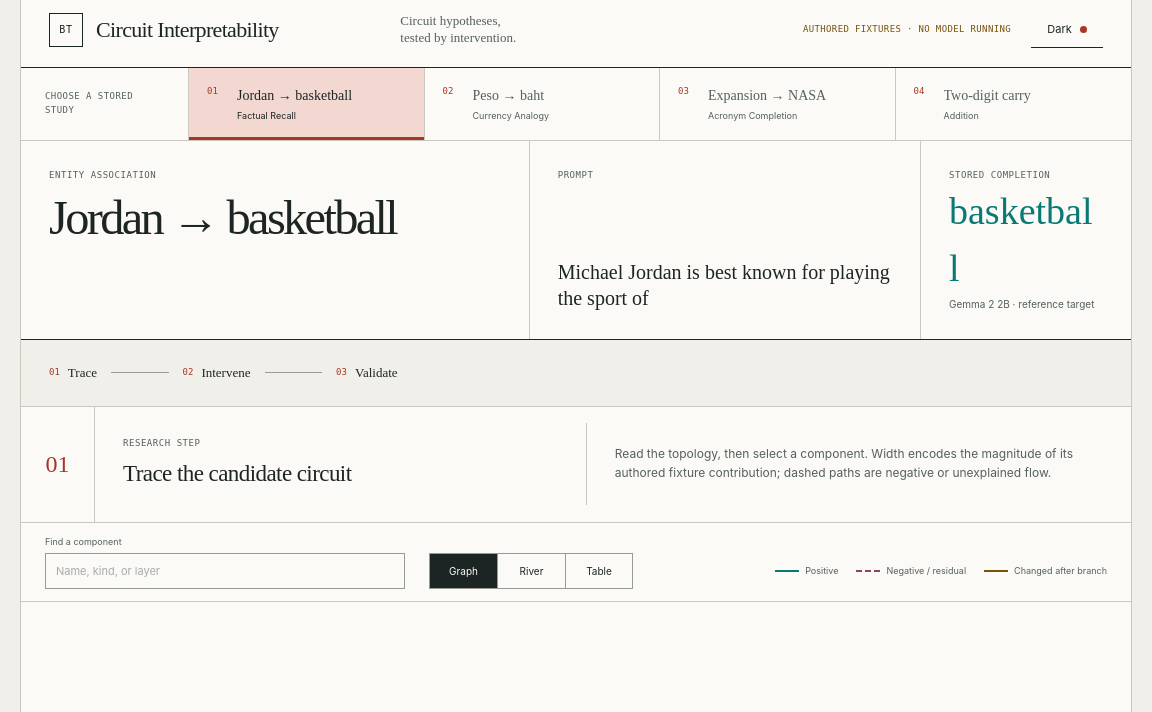
BranchTraceApp interactions › derives validation values and contrast from active state
The width and height of the screenshot is (1152, 712).
Click the button with test id "demo-arithmetic" at (1013, 104), box x1=896 y1=68 x2=1131 y2=140
(page scrolled)
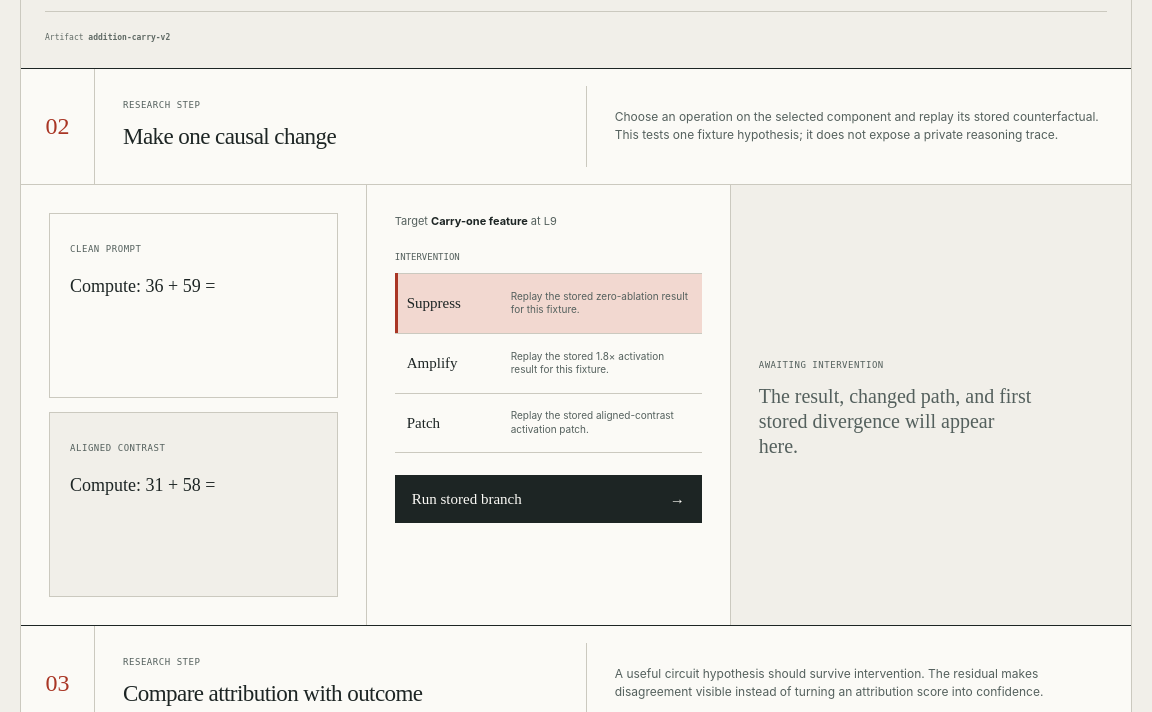
Click the radio button with test id "mode-amplify" at (548, 363), box x1=395 y1=333 x2=702 y2=393
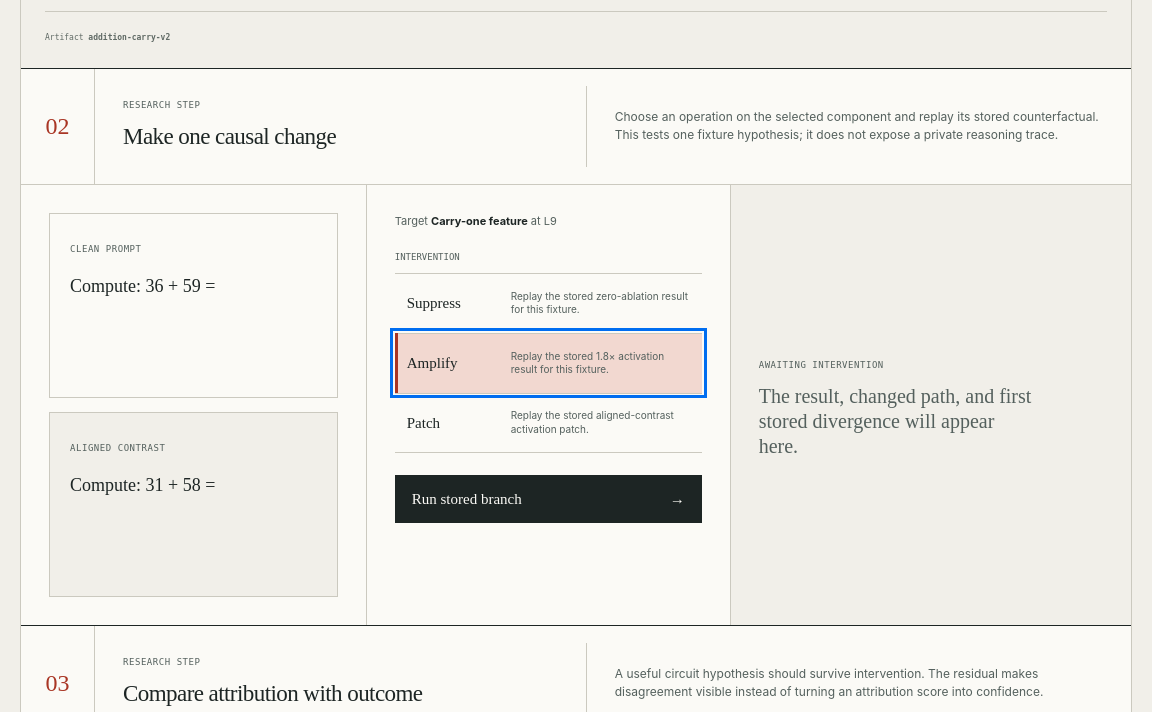
Click the button with test id "run-intervention" at (467, 498), box x1=395 y1=475 x2=702 y2=523
(page scrolled)
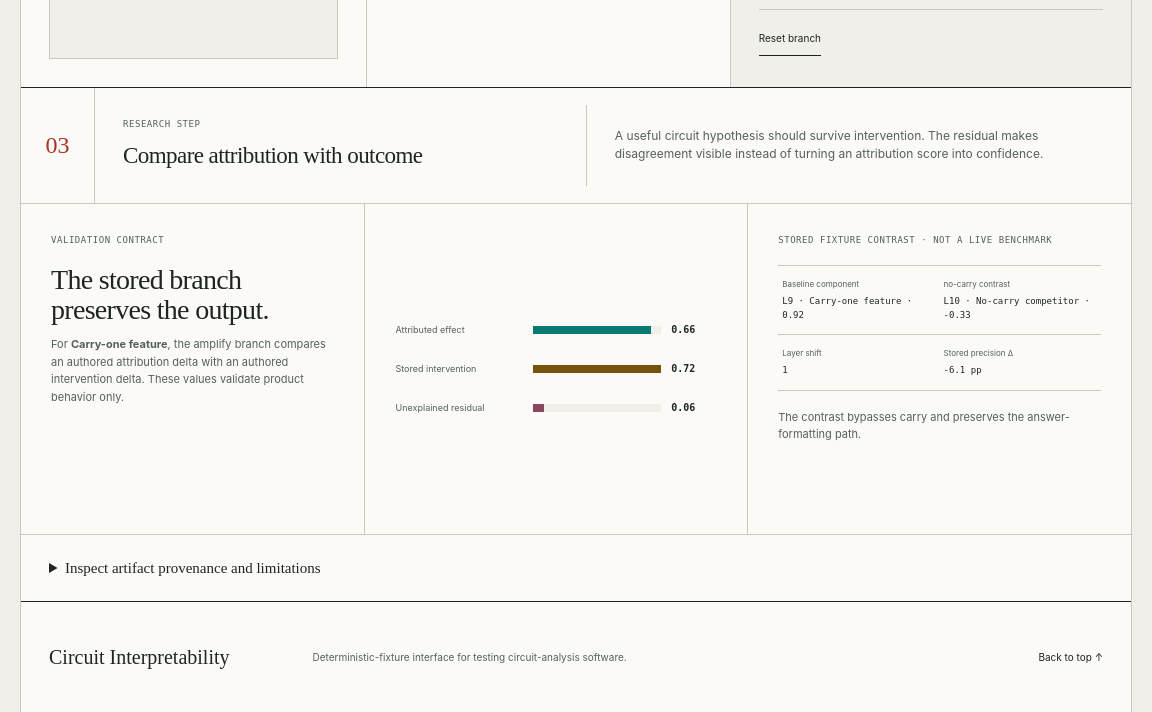
Expected: the text "0.66" is shown, x1=671 y1=324 x2=695 y2=335
Expected: the text "0.72" is shown, x1=671 y1=363 x2=695 y2=374
Expected: the text "0.06" is shown, x1=671 y1=402 x2=695 y2=413
